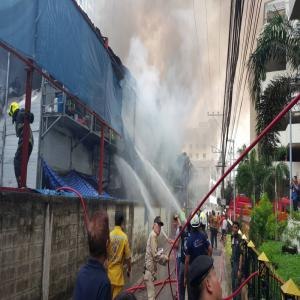none: (190, 255, 225, 300), (89, 211, 111, 262), (115, 210, 124, 229), (155, 218, 164, 237), (232, 221, 240, 236), (174, 215, 179, 229), (294, 176, 298, 184), (214, 212, 217, 218), (227, 217, 229, 222), (219, 213, 221, 216)
white: (190, 213, 201, 233), (200, 213, 208, 231), (223, 213, 226, 219)
yellow: (10, 103, 20, 123), (183, 208, 186, 213)
